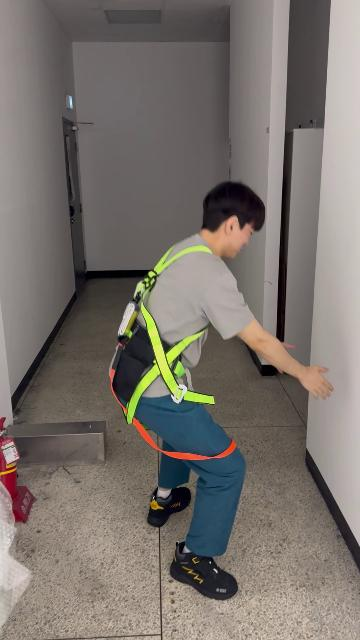helmet_not_worn: (201, 179, 267, 257)
shoe_worn: (171, 542, 238, 600), (146, 485, 190, 527)
vest_worn: (110, 242, 234, 453)
